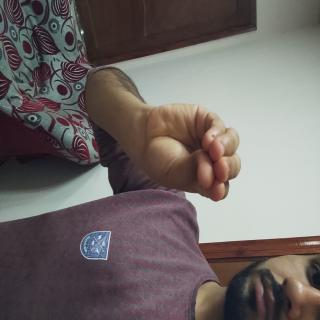HA: (75, 101, 152, 257)
